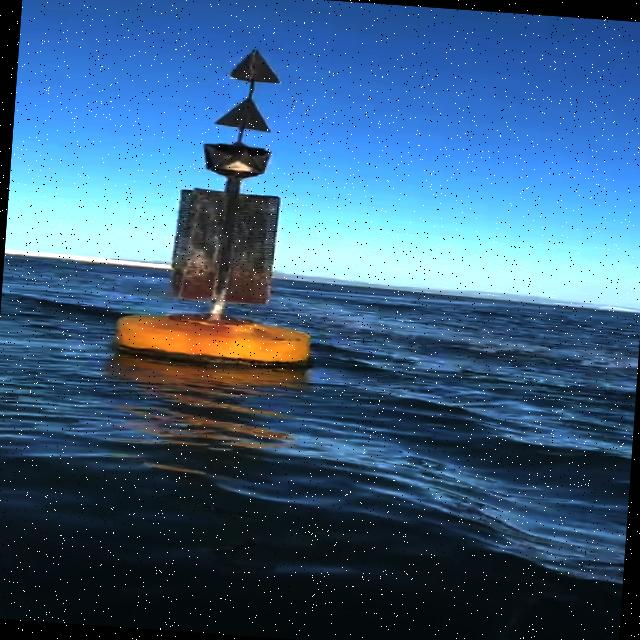marque: (120, 42, 330, 378)
